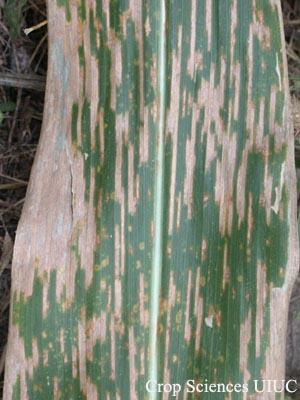Corn Gray leaf spot: (10, 2, 296, 400)
